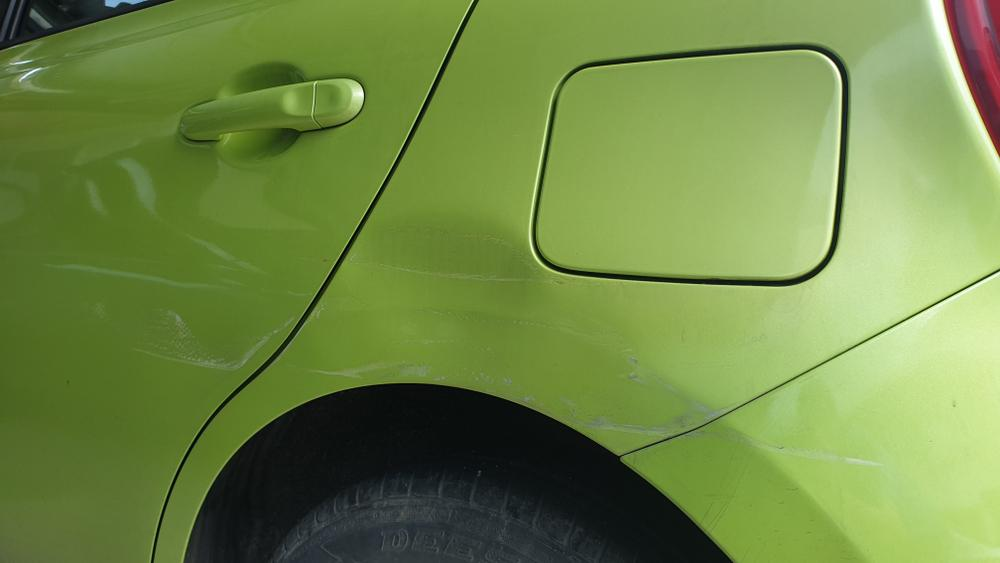dent: (355, 213, 530, 357)
scratch: (578, 349, 747, 440), (675, 412, 883, 467)
